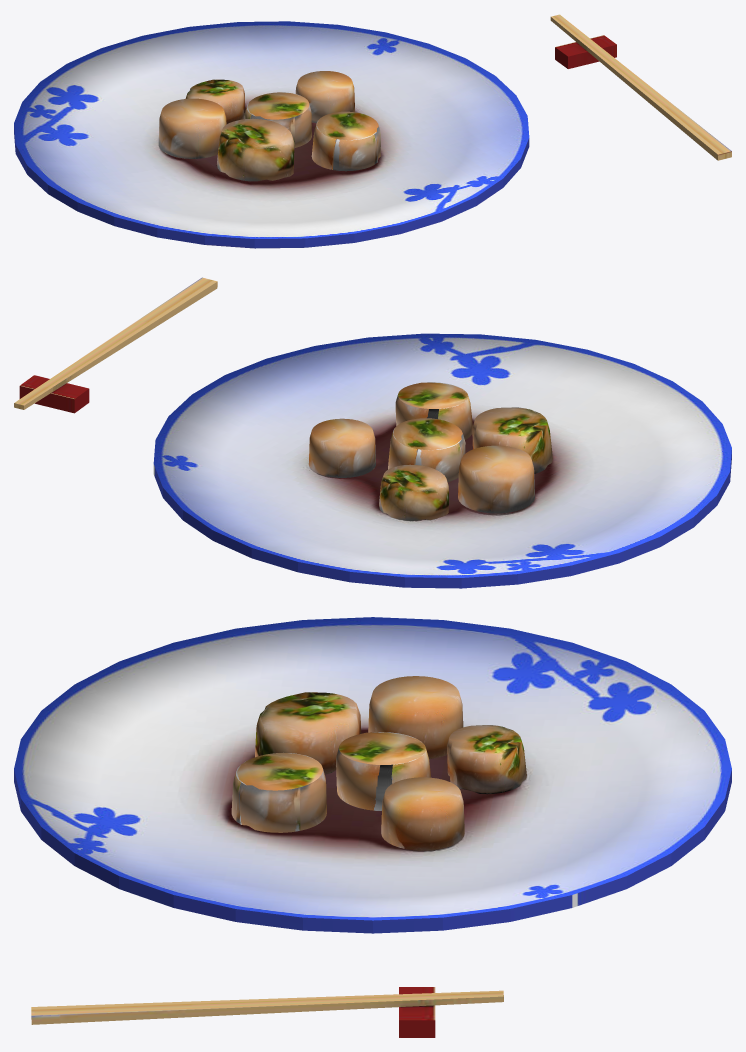
File: hotate.glb
3 renders of one model, top to bottom at view 1: azimuth 30°, elevation 25°; view 2: azimuth 150°, elevation 25°; view 3: azimuth 270°, elevation 25°, orthographic. The views are drawn at different scales.
Visible parts, largest first — view 1: plate, sca.003, sca.005, sca, sca.001, sca.004, sca.002; view 2: plate, sca, sca.001, sca.004, sca.002, sca.003, sca.005; view 3: plate, sca.005, sca.003, sca, sca.004, sca.001, sca.002.
Boxes of the visible parts, box(x1,y1,x2,y2) form: plate: box(14, 14, 731, 248); sca.003: box(216, 118, 294, 181); sca.005: box(311, 111, 380, 171); sca: box(158, 98, 226, 158); sca.001: box(244, 92, 311, 147); sca.004: box(295, 71, 354, 122); sca.002: box(185, 79, 245, 123); plate: box(14, 277, 731, 588); sca: box(458, 445, 534, 513); sca.001: box(388, 418, 465, 481); sca.004: box(308, 418, 375, 477); sca.002: box(379, 464, 448, 520); sca.003: box(472, 407, 552, 473); sca.005: box(395, 382, 472, 439); plate: box(14, 617, 731, 1037); sca.005: box(231, 752, 326, 832); sca.003: box(255, 692, 361, 774); sca: box(368, 676, 463, 759); sca.004: box(381, 777, 464, 850); sca.001: box(336, 732, 430, 810); sca.002: box(447, 725, 526, 794).
Size of the model in its own units: 1.28 by 0.0943 by 0.993.
Materials: 4 (4 with a texture image).
